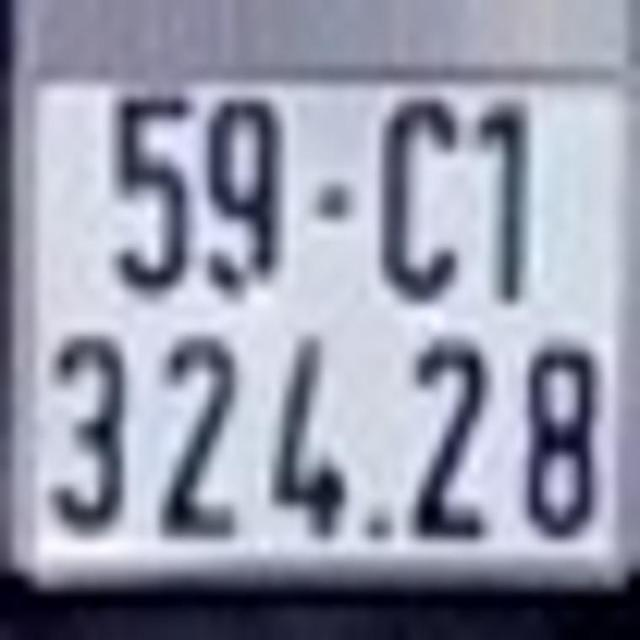1: (476, 96, 533, 304)
2: (159, 331, 239, 540), (411, 333, 487, 541)
3: (48, 330, 128, 534)
4: (272, 331, 348, 541)
5: (111, 90, 192, 294)
8: (527, 342, 595, 539)
9: (204, 92, 280, 301)
C: (377, 92, 462, 302)
